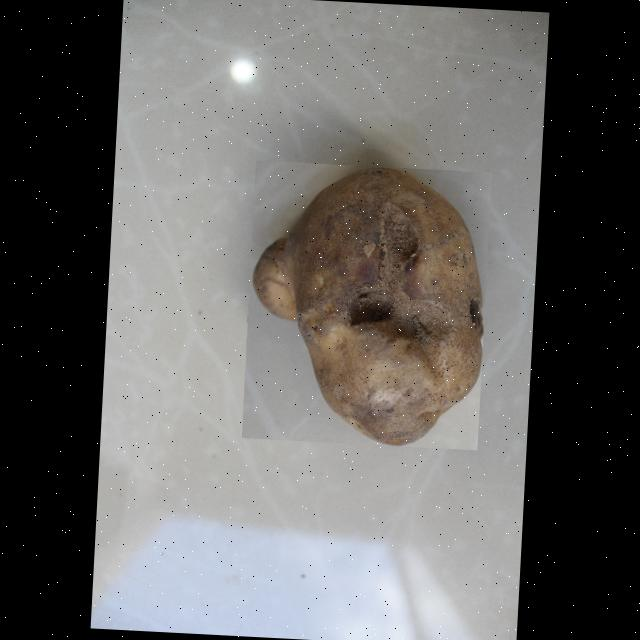Diseased-fungal potato: (242, 160, 492, 450)
